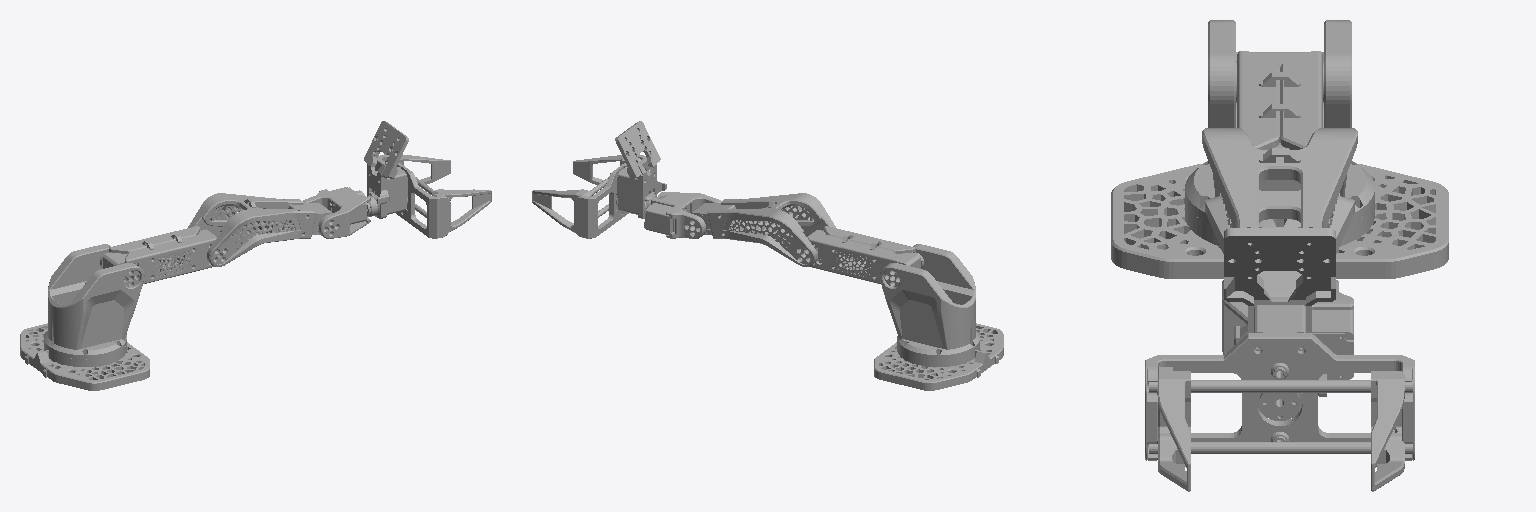
URDF robot description (so-arm):
<?xml version="1.0" ?>
<robot name="so-arm">

<material name="silver">
  <color rgba="0.700 0.700 0.700 1.000"/>
</material>

<transmission name="base_to_link1_tran">
  <type>transmission_interface/SimpleTransmission</type>
  <joint name="base_to_link1">
    <hardwareInterface>hardware_interface/EffortJointInterface</hardwareInterface>
  </joint>
  <actuator name="base_to_link1_actr">
    <hardwareInterface>hardware_interface/EffortJointInterface</hardwareInterface>
    <mechanicalReduction>1</mechanicalReduction>
  </actuator>
</transmission>

<transmission name="link1_to_link2_tran">
  <type>transmission_interface/SimpleTransmission</type>
  <joint name="link1_to_link2">
    <hardwareInterface>hardware_interface/EffortJointInterface</hardwareInterface>
  </joint>
  <actuator name="link1_to_link2_actr">
    <hardwareInterface>hardware_interface/EffortJointInterface</hardwareInterface>
    <mechanicalReduction>1</mechanicalReduction>
  </actuator>
</transmission>

<transmission name="link2_to_link3_tran">
  <type>transmission_interface/SimpleTransmission</type>
  <joint name="link2_to_link3">
    <hardwareInterface>hardware_interface/EffortJointInterface</hardwareInterface>
  </joint>
  <actuator name="link2_to_link3_actr">
    <hardwareInterface>hardware_interface/EffortJointInterface</hardwareInterface>
    <mechanicalReduction>1</mechanicalReduction>
  </actuator>
</transmission>

<transmission name="link3_to_link4_tran">
  <type>transmission_interface/SimpleTransmission</type>
  <joint name="link3_to_link4">
    <hardwareInterface>hardware_interface/EffortJointInterface</hardwareInterface>
  </joint>
  <actuator name="link3_to_link4_actr">
    <hardwareInterface>hardware_interface/EffortJointInterface</hardwareInterface>
    <mechanicalReduction>1</mechanicalReduction>
  </actuator>
</transmission>

<transmission name="link4_to_link5_tran">
  <type>transmission_interface/SimpleTransmission</type>
  <joint name="link4_to_link5">
    <hardwareInterface>hardware_interface/EffortJointInterface</hardwareInterface>
  </joint>
  <actuator name="link4_to_link5_actr">
    <hardwareInterface>hardware_interface/EffortJointInterface</hardwareInterface>
    <mechanicalReduction>1</mechanicalReduction>
  </actuator>
</transmission>

<transmission name="clamp1_tran">
  <type>transmission_interface/SimpleTransmission</type>
  <joint name="clamp1">
    <hardwareInterface>hardware_interface/EffortJointInterface</hardwareInterface>
  </joint>
  <actuator name="clamp1_actr">
    <hardwareInterface>hardware_interface/EffortJointInterface</hardwareInterface>
    <mechanicalReduction>1</mechanicalReduction>
  </actuator>
</transmission>

<link name="base_link">
  <inertial>
    <origin xyz="-0.009406544829903572 6.007217489668264e-05 0.008235205211362326" rpy="0 0 0"/>
    <mass value="1.19098497271946"/>
    <inertia ixx="0.001873" iyy="0.001135" izz="0.00291" ixy="2e-06" iyz="0.0" ixz="-9e-06"/>
  </inertial>
  <visual>
    <origin xyz="0 0 0" rpy="0 0 0"/>
    <geometry>
      <mesh filename="package://so-arm_description/meshes/base_link.stl" scale="0.001 0.001 0.001"/>
    </geometry>
    <material name="silver"/>
  </visual>
  <collision>
    <origin xyz="0 0 0" rpy="0 0 0"/>
    <geometry>
      <mesh filename="package://so-arm_description/meshes/base_link.stl" scale="0.001 0.001 0.001"/>
    </geometry>
  </collision>
</link>

<link name="link1_1">
  <inertial>
    <origin xyz="0.005464885749287921 -1.2675422346798214e-05 0.03240352538520035" rpy="0 0 0"/>
    <mass value="2.2403884827714697"/>
    <inertia ixx="0.002478" iyy="0.002807" izz="0.002419" ixy="1e-06" iyz="1e-06" ixz="-0.000363"/>
  </inertial>
  <visual>
    <origin xyz="0.006 0.0 -0.025" rpy="0 0 0"/>
    <geometry>
      <mesh filename="package://so-arm_description/meshes/link1_1.stl" scale="0.001 0.001 0.001"/>
    </geometry>
    <material name="silver"/>
  </visual>
  <collision>
    <origin xyz="0.006 0.0 -0.025" rpy="0 0 0"/>
    <geometry>
      <mesh filename="package://so-arm_description/meshes/link1_1.stl" scale="0.001 0.001 0.001"/>
    </geometry>
  </collision>
</link>

<link name="link2_1">
  <inertial>
    <origin xyz="0.056505092817969824 0.017999730747229378 0.00011963824154033464" rpy="0 0 0"/>
    <mass value="1.0038909417141955"/>
    <inertia ixx="0.000236" iyy="0.001588" izz="0.001617" ixy="1.6e-05" iyz="-0.0" ixz="0.0"/>
  </inertial>
  <visual>
    <origin xyz="-0.034 0.018 -0.098357" rpy="0 0 0"/>
    <geometry>
      <mesh filename="package://so-arm_description/meshes/link2_1.stl" scale="0.001 0.001 0.001"/>
    </geometry>
    <material name="silver"/>
  </visual>
  <collision>
    <origin xyz="-0.034 0.018 -0.098357" rpy="0 0 0"/>
    <geometry>
      <mesh filename="package://so-arm_description/meshes/link2_1.stl" scale="0.001 0.001 0.001"/>
    </geometry>
  </collision>
</link>

<link name="link3_1">
  <inertial>
    <origin xyz="0.07032572998340453 -0.0180163064459541 0.012228646336233537" rpy="0 0 0"/>
    <mass value="0.9959769427609523"/>
    <inertia ixx="0.000539" iyy="0.002171" izz="0.002355" ixy="4e-06" iyz="-0.0" ixz="0.000216"/>
  </inertial>
  <visual>
    <origin xyz="-0.147001 -0.018 -0.098323" rpy="0 0 0"/>
    <geometry>
      <mesh filename="package://so-arm_description/meshes/link3_1.stl" scale="0.001 0.001 0.001"/>
    </geometry>
    <material name="silver"/>
  </visual>
  <collision>
    <origin xyz="-0.147001 -0.018 -0.098323" rpy="0 0 0"/>
    <geometry>
      <mesh filename="package://so-arm_description/meshes/link3_1.stl" scale="0.001 0.001 0.001"/>
    </geometry>
  </collision>
</link>

<link name="link4_1">
  <inertial>
    <origin xyz="0.03159105739141316 -0.010094336391021686 -0.0001713219399298166" rpy="0 0 0"/>
    <mass value="0.47315362223870805"/>
    <inertia ixx="0.000177" iyy="0.00017" izz="0.000277" ixy="-2.8e-05" iyz="1e-06" ixz="2e-06"/>
  </inertial>
  <visual>
    <origin xyz="-0.286186 -0.018 -0.098287" rpy="0 0 0"/>
    <geometry>
      <mesh filename="package://so-arm_description/meshes/link4_1.stl" scale="0.001 0.001 0.001"/>
    </geometry>
    <material name="silver"/>
  </visual>
  <collision>
    <origin xyz="-0.286186 -0.018 -0.098287" rpy="0 0 0"/>
    <geometry>
      <mesh filename="package://so-arm_description/meshes/link4_1.stl" scale="0.001 0.001 0.001"/>
    </geometry>
  </collision>
</link>

<link name="link5_1">
  <inertial>
    <origin xyz="0.03741565773493527 -0.00011824563115753717 0.013731317481773586" rpy="0 0 0"/>
    <mass value="0.6948514192250708"/>
    <inertia ixx="0.000968" iyy="0.000587" izz="0.000772" ixy="-4e-06" iyz="1e-06" ixz="9.1e-05"/>
  </inertial>
  <visual>
    <origin xyz="-0.34538 1e-06 -0.098247" rpy="0 0 0"/>
    <geometry>
      <mesh filename="package://so-arm_description/meshes/link5_1.stl" scale="0.001 0.001 0.001"/>
    </geometry>
    <material name="silver"/>
  </visual>
  <collision>
    <origin xyz="-0.34538 1e-06 -0.098247" rpy="0 0 0"/>
    <geometry>
      <mesh filename="package://so-arm_description/meshes/link5_1.stl" scale="0.001 0.001 0.001"/>
    </geometry>
  </collision>
</link>

<!-- Negative-Y / right claw. -->
<link name="clamp2_1">
  <inertial>
    <origin xyz="0.015089611475487041 -0.05201855841456542 -0.014925662643598639" rpy="0 0 0"/>
    <mass value="0.08274917910303048"/>
    <inertia ixx="2e-05" iyy="5.6e-05" izz="3.9e-05" ixy="4e-06" iyz="0.0" ixz="-1e-06"/>
  </inertial>
  <visual>
    <origin xyz="-0.409377 -0.044101 -0.112532" rpy="0 0 0"/>
    <geometry>
      <mesh filename="package://so-arm_description/meshes/clamp2_1.stl" scale="0.001 0.001 0.001"/>
    </geometry>
    <material name="silver"/>
  </visual>
  <collision>
    <origin xyz="-0.409377 -0.044101 -0.112532" rpy="0 0 0"/>
    <geometry>
      <mesh filename="package://so-arm_description/meshes/clamp2_1.stl" scale="0.001 0.001 0.001"/>
    </geometry>
  </collision>
</link>

<!-- Positive-Y / left claw. -->
<link name="clamp1_1">
  <inertial>
    <origin xyz="0.015089611631717736 0.052019408526296096 -0.01364049960713011" rpy="0 0 0"/>
    <mass value="0.0827491781431124"/>
    <inertia ixx="2e-05" iyy="5.6e-05" izz="3.9e-05" ixy="-4e-06" iyz="0.0" ixz="1e-06"/>
  </inertial>
  <visual>
    <origin xyz="-0.409377 0.043099 -0.112532" rpy="0 0 0"/>
    <geometry>
      <mesh filename="package://so-arm_description/meshes/clamp1_1.stl" scale="0.001 0.001 0.001"/>
    </geometry>
    <material name="silver"/>
  </visual>
  <collision>
    <origin xyz="-0.409377 0.043099 -0.112532" rpy="0 0 0"/>
    <geometry>
      <mesh filename="package://so-arm_description/meshes/clamp1_1.stl" scale="0.001 0.001 0.001"/>
    </geometry>
  </collision>
</link>

<joint name="base_to_link1" type="revolute">
  <origin xyz="-0.006 0.0 0.025" rpy="0 0 0"/>
  <parent link="base_link"/>
  <child link="link1_1"/>
  <axis xyz="-0.0 -0.0 -1.0"/>
  <limit upper="3.071779" lower="-3.071779" effort="100" velocity="100"/>
</joint>

<joint name="link1_to_link2" type="revolute">
  <origin xyz="0.04 -0.018 0.073357" rpy="0 0 0"/>
  <parent link="link1_1"/>
  <child link="link2_1"/>
  <axis xyz="0.0 -1.0 0.0"/>
  <limit upper="3.159046" lower="-0.750492" effort="100" velocity="100"/>
</joint>

<joint name="link2_to_link3" type="revolute">
  <origin xyz="0.113001 0.036 -3.4e-05" rpy="0 0 0"/>
  <parent link="link2_1"/>
  <child link="link3_1"/>
  <axis xyz="0.0 -1.0 -0.0"/>
  <limit upper="1.343904" lower="-2.897247" effort="100" velocity="100"/>
</joint>

<joint name="link3_to_link4" type="revolute">
  <origin xyz="0.139185 0.0 -3.6e-05" rpy="0 0 0"/>
  <parent link="link3_1"/>
  <child link="link4_1"/>
  <axis xyz="-0.0 1.0 0.0"/>
  <limit upper="1.937315" lower="-1.48353" effort="100" velocity="100"/>
</joint>

<joint name="link4_to_link5" type="revolute">
  <origin xyz="0.059194 -0.018001 -4e-05" rpy="0 0 0"/>
  <parent link="link4_1"/>
  <child link="link5_1"/>
  <axis xyz="-1.0 -0.0 0.0"/>
  <limit upper="2.844887" lower="-2.879793" effort="100" velocity="100"/>
</joint>

<joint name="clamp1" type="prismatic">
  <!-- The joint frame is placed at the fully-open pose. -->
  <origin xyz="0.063997 -0.000498 0.014285" rpy="0 0 0"/>
  <parent link="link5_1"/>
  <child link="clamp1_1"/>
  <axis xyz="0.0 -1.0 0.0"/>
  <limit upper="0.0425" lower="0.0" effort="100" velocity="100"/>
</joint>

<joint name="clamp2" type="prismatic">
  <!-- The joint frame is placed at the fully-open pose. -->
  <origin xyz="0.063997 0.001502 0.014285" rpy="0 0 0"/>
  <parent link="link5_1"/>
  <child link="clamp2_1"/>
  <!-- Positive displacement closes both claws. -->
  <axis xyz="0.0 1.0 0.0"/>
  <limit upper="0.0425" lower="0.0" effort="100" velocity="100"/>
  <!-- The opposite axis makes the same displacement mirror clamp1 physically. -->
  <mimic joint="clamp1" multiplier="1.0" offset="0.0"/>
</joint>

</robot>

--- What the picture shows (computed from the rendered views, not written in the file) ---
Views: 3 orthographic renders of the robot side by side, from view 1: azimuth 30°, elevation 25°; view 2: azimuth 150°, elevation 25°; view 3: azimuth 270°, elevation 25°.
Model so-arm with 8 links and 7 joints (5 revolute, 2 prismatic), rooted at base_link, posed all joints at 0.
Links seen in each view (by area): view 1: link1_1, link3_1, link5_1, link2_1, base_link, link4_1, clamp2_1, clamp1_1; view 2: link1_1, link3_1, link5_1, link2_1, base_link, link4_1, clamp1_1, clamp2_1; view 3: link5_1, base_link, link3_1, link1_1, link2_1, clamp2_1, clamp1_1, link4_1.
Link boxes in pixels (x1,y1,x2,y2): link1_1: (44,244,144,366); link3_1: (188,193,331,266); link5_1: (364,121,450,238); link2_1: (101,226,216,283); base_link: (20,323,149,390); link4_1: (303,187,370,238); clamp2_1: (432,189,491,231); clamp1_1: (385,155,450,186); link1_1: (880,244,979,367); link3_1: (691,193,835,266); link5_1: (574,121,666,238); link2_1: (807,226,922,283); base_link: (874,323,1003,390); link4_1: (644,192,721,238); clamp1_1: (532,189,591,232); clamp2_1: (573,155,640,184); link5_1: (1145,228,1414,460); base_link: (1111,163,1448,278); link3_1: (1202,128,1357,296); link1_1: (1185,20,1374,247); link2_1: (1237,51,1322,190); clamp2_1: (1157,367,1190,491); clamp1_1: (1371,371,1404,491); link4_1: (1222,280,1353,396).
Bounding box of the posed robot: 0.5454 × 0.16 × 0.184 m (x, y, z).
Meshes: 8 distinct files referenced, 8 mesh visuals loaded (8 binary STL).
